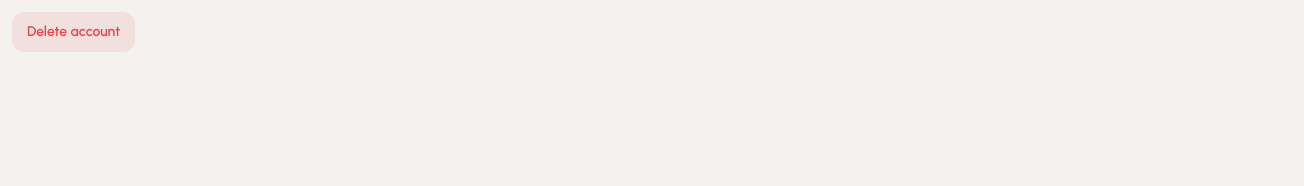
it: DeleteAccount › can be cancelled
Click the button "Delete account" at (74, 32), box [12,12,135,52]
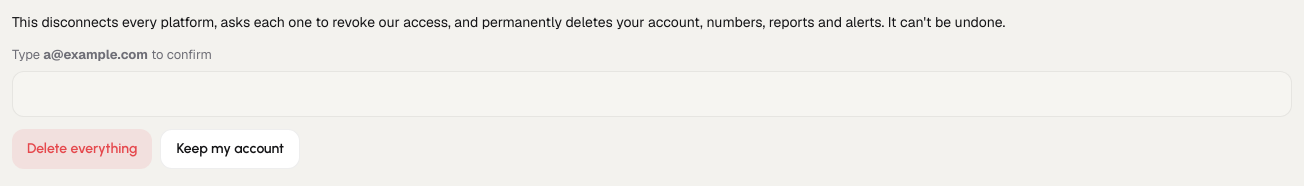
Click the button "Keep my account" at (230, 148), box [160,128,300,168]
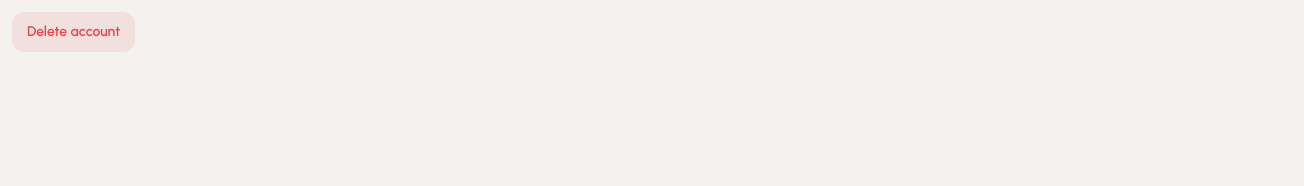
Result: the button "Delete account" is shown at [12,12,135,52]
